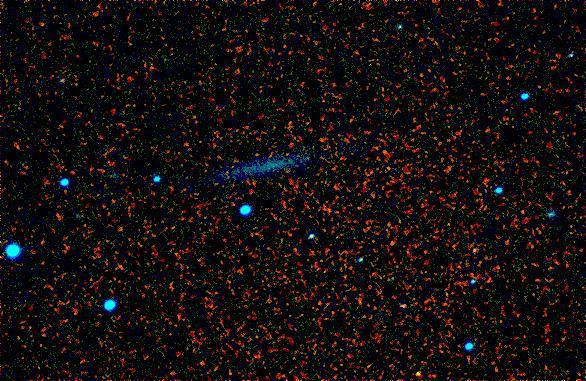star: (405, 358, 435, 381)
